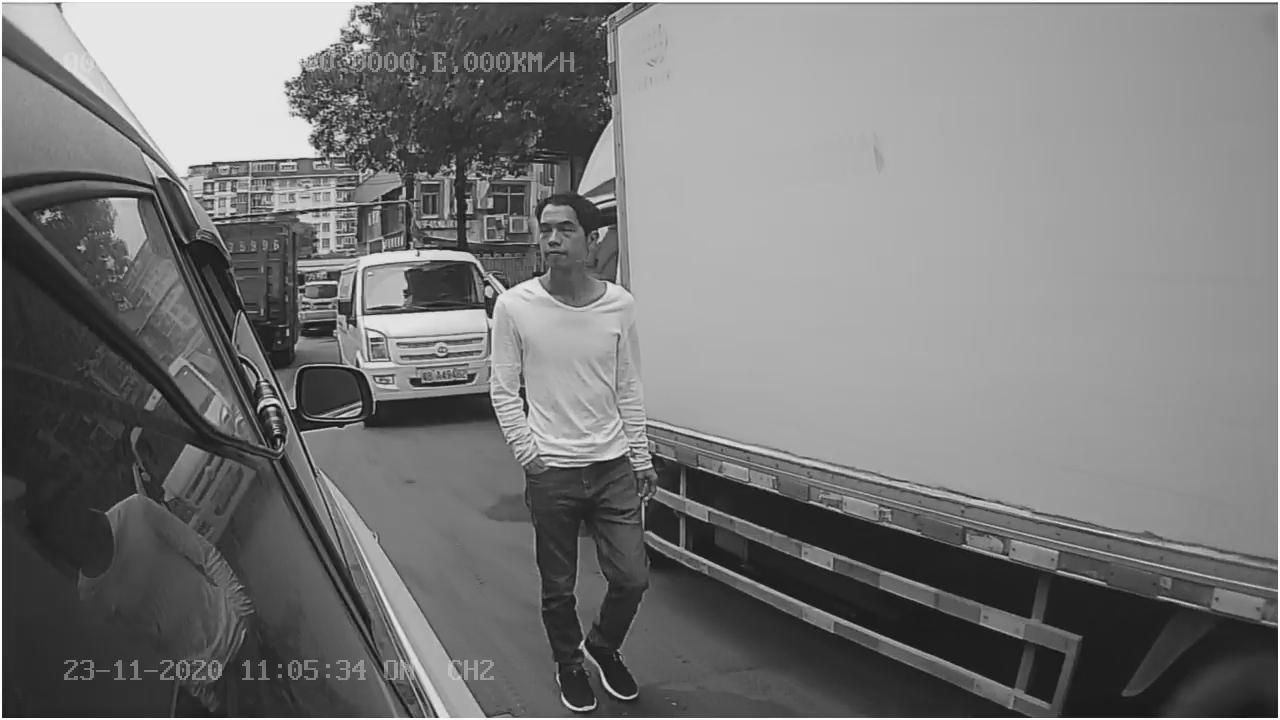person: (482, 189, 665, 711)
